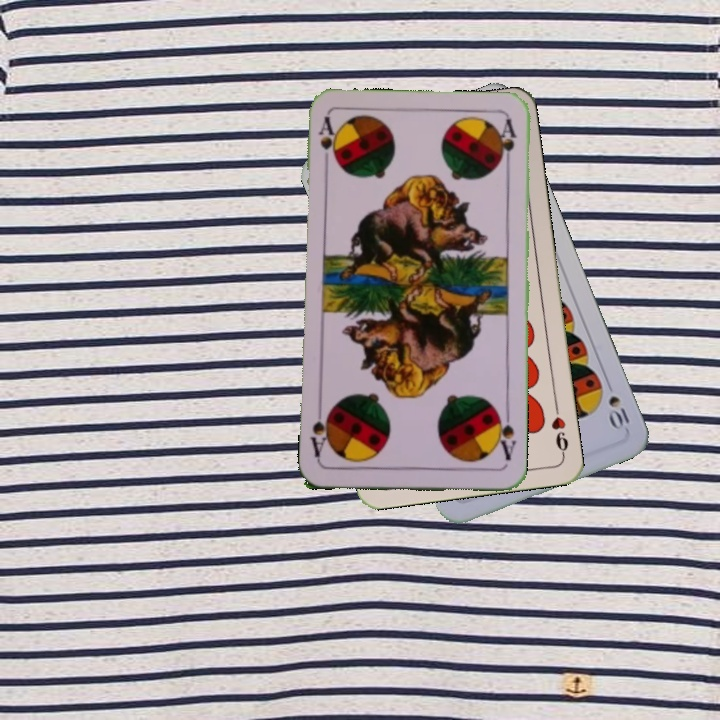H9: (547, 399, 571, 458)
S10: (604, 391, 634, 433)
SA: (492, 407, 519, 463), (314, 113, 339, 172)
